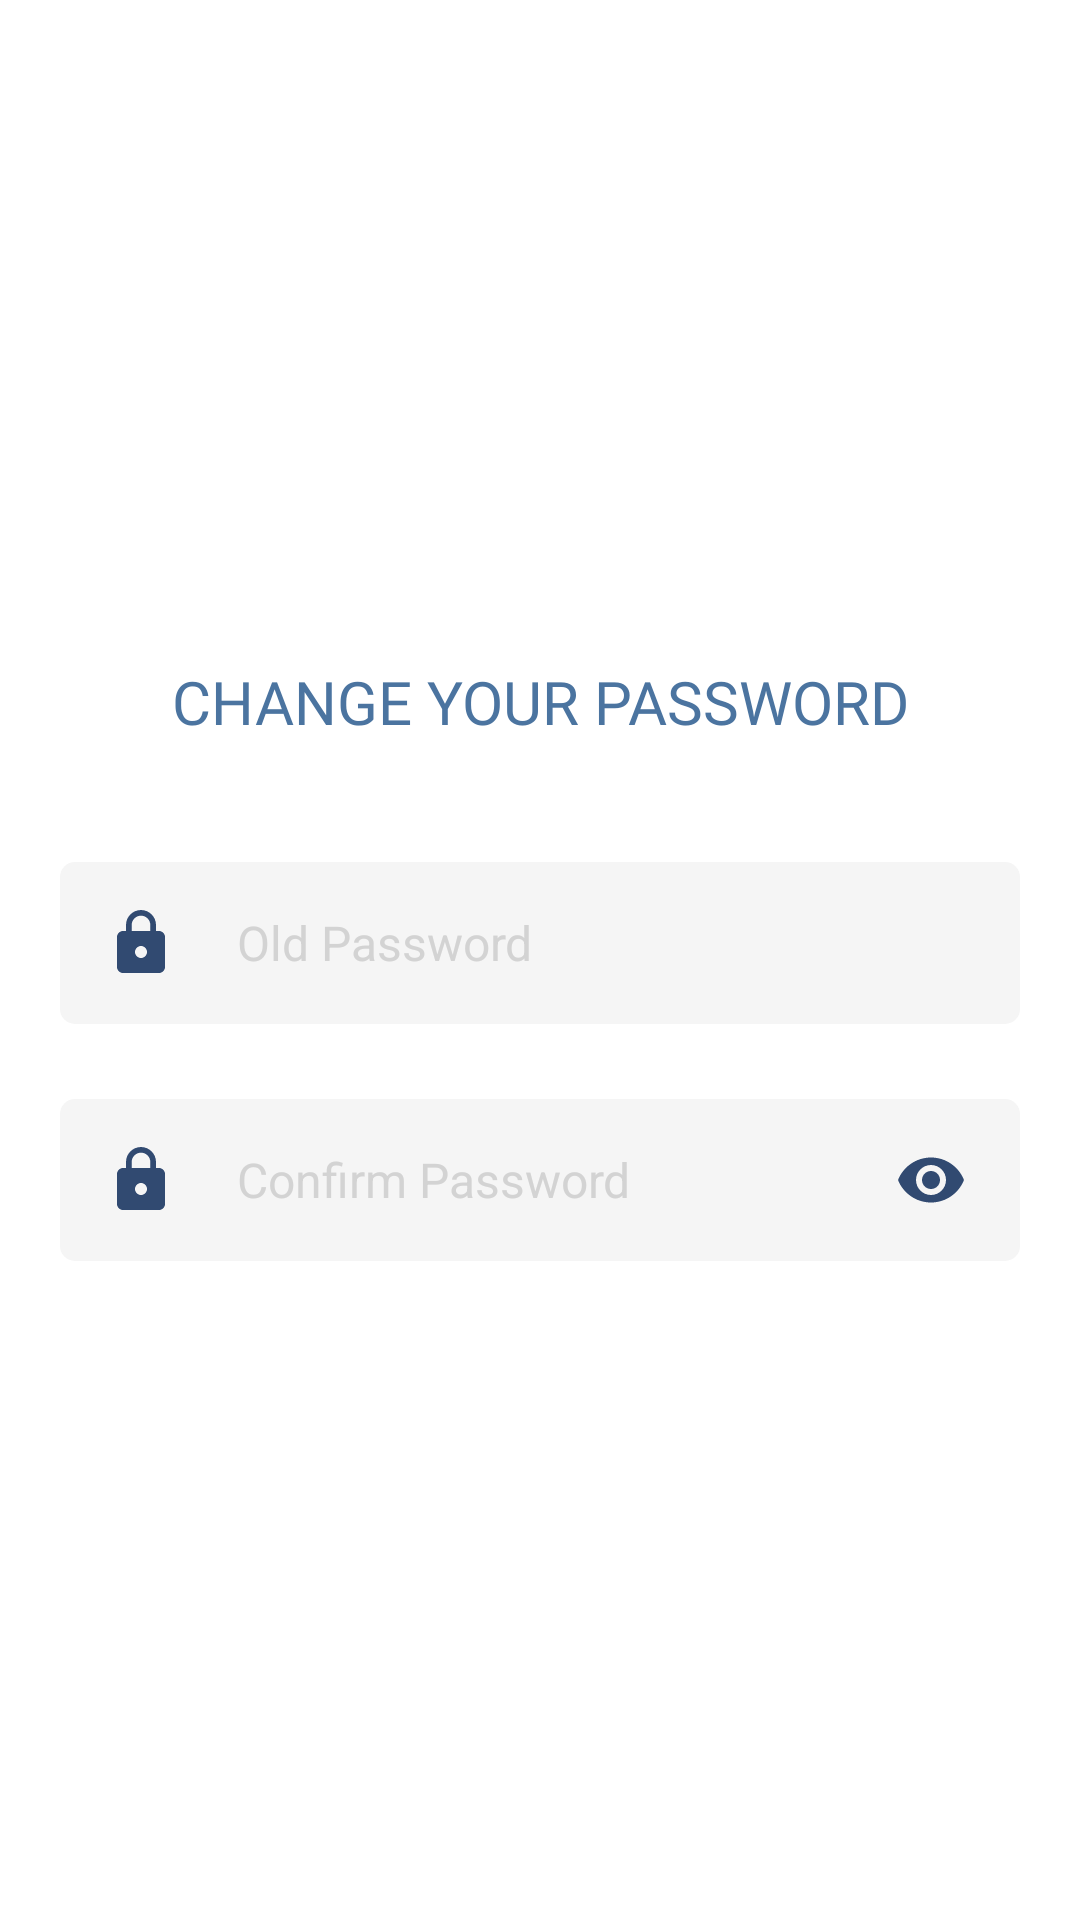

Icon click points for this 1080 × 1920 phone screenshot, format point (x, y):
eye: point (931, 1180)
